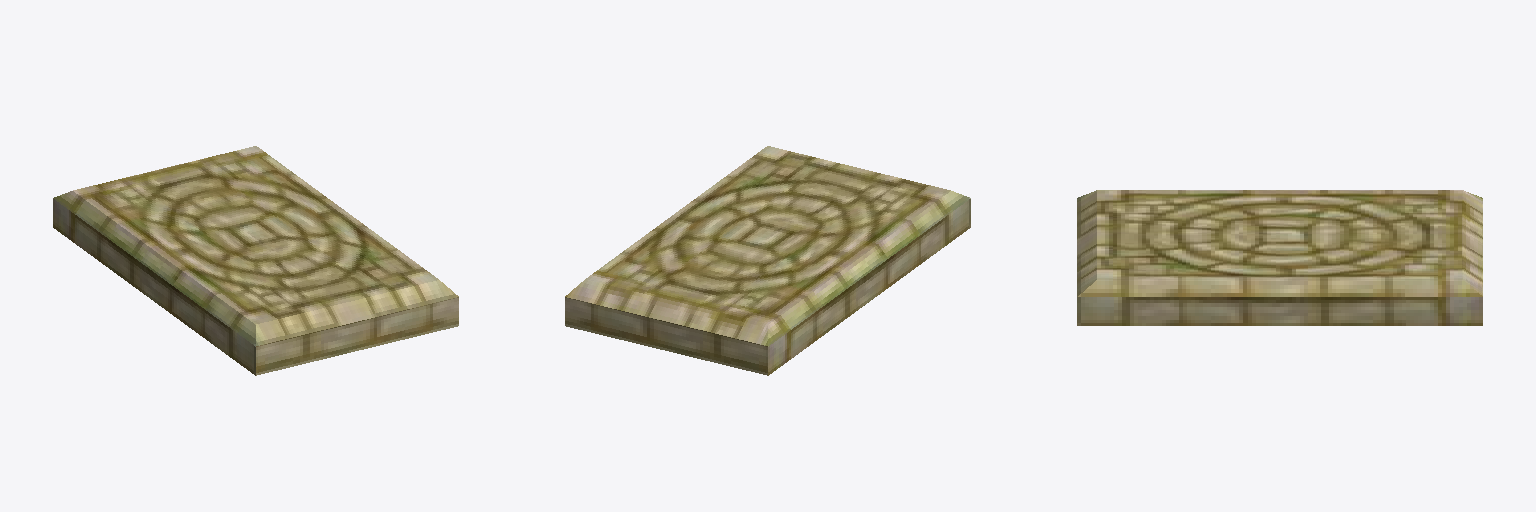
3 views of the same model, side by side, from view 1: azimuth 30°, elevation 25°; view 2: azimuth 150°, elevation 25°; view 3: azimuth 270°, elevation 25° (orthographic).
Visible parts, largest first — view 1: mesh01; view 2: mesh01; view 3: mesh01.
Part boxes in pixels (left/top/right/bottom): mesh01: left=53, top=146, right=458, bottom=375; mesh01: left=565, top=146, right=970, bottom=375; mesh01: left=1077, top=190, right=1482, bottom=325.
Size of the model in its own units: 10.94 by 2.14 by 18.87.
1 materials, 1 textured.